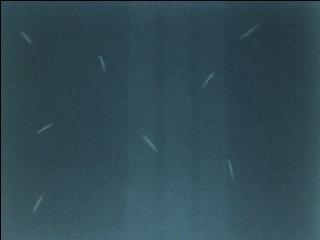scratch: (135, 129, 162, 155), (33, 189, 52, 216), (16, 26, 36, 50), (239, 20, 261, 41), (34, 120, 56, 139), (96, 53, 112, 79), (202, 70, 217, 90), (226, 156, 236, 182)
